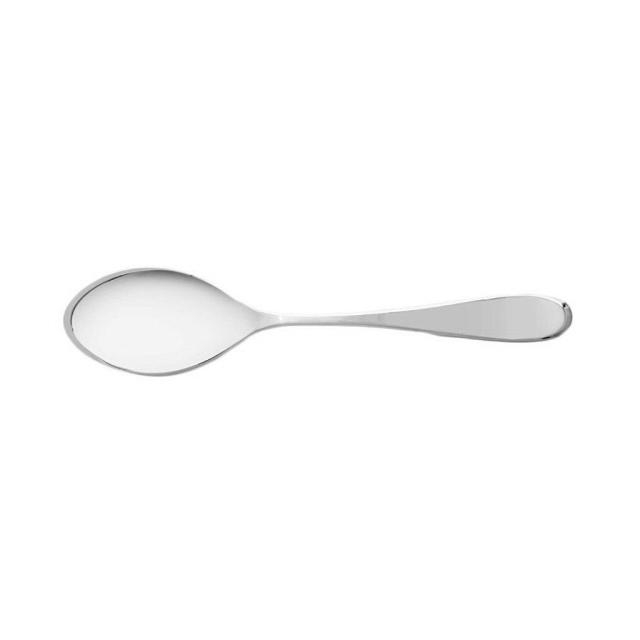spoon: (42, 249, 580, 386)
